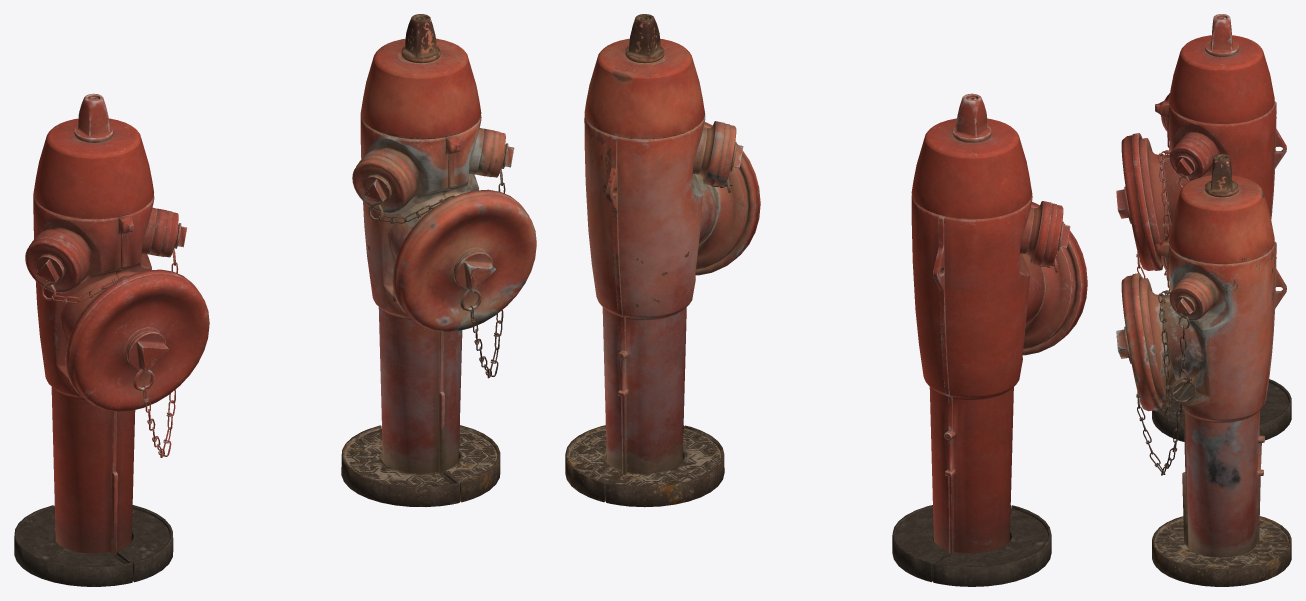
The model's file is fire_hydrant.glb.
3 views of the same model, side by side, from view 1: azimuth 30°, elevation 25°; view 2: azimuth 150°, elevation 25°; view 3: azimuth 270°, elevation 25° (orthographic). The views are drawn at different scales.
Visible parts, largest first — view 1: fire_hydrant_aged, fire_hydrant, fire_hydrant_cap_01, fire_hydrant_cap_01_aged, fire_hydrant_cap_03_aged, fire_hydrant_cap_03, fire_hydrant_chain_aged, fire_hydrant_chain, fire_hydrant_cap_02, fire_hydrant_cap_02_aged; view 2: fire_hydrant, fire_hydrant_aged, fire_hydrant_cap_01, fire_hydrant_cap_01_aged, fire_hydrant_cap_03_aged, fire_hydrant_cap_03; view 3: fire_hydrant_aged, fire_hydrant, fire_hydrant_cap_01, fire_hydrant_cap_01_aged, fire_hydrant_chain_aged, fire_hydrant_cap_02_aged, fire_hydrant_cap_02, fire_hydrant_chain.
Part boxes in pixels (box(x1,y1,x2,y2)): fire_hydrant_aged: box(341, 14, 500, 506); fire_hydrant: box(14, 93, 173, 586); fire_hydrant_cap_01: box(65, 269, 209, 411); fire_hydrant_cap_01_aged: box(392, 189, 536, 331); fire_hydrant_cap_03_aged: box(352, 155, 411, 213); fire_hydrant_cap_03: box(25, 235, 84, 293); fire_hydrant_chain_aged: box(368, 145, 505, 378); fire_hydrant_chain: box(41, 224, 178, 457); fire_hydrant_cap_02: box(159, 210, 186, 257); fire_hydrant_cap_02_aged: box(486, 130, 514, 177); fire_hydrant: box(892, 93, 1075, 586); fire_hydrant_aged: box(565, 14, 748, 507); fire_hydrant_cap_01: box(1022, 202, 1087, 355); fire_hydrant_cap_01_aged: box(695, 122, 760, 275); fire_hydrant_cap_03_aged: box(713, 123, 743, 186); fire_hydrant_cap_03: box(1041, 203, 1070, 266); fire_hydrant_aged: box(1139, 154, 1291, 586); fire_hydrant: box(1139, 14, 1291, 441); fire_hydrant_cap_01: box(1116, 133, 1162, 270); fire_hydrant_cap_01_aged: box(1116, 273, 1162, 411); fire_hydrant_chain_aged: box(1136, 289, 1196, 475); fire_hydrant_cap_02_aged: box(1169, 281, 1209, 320); fire_hydrant_cap_02: box(1169, 141, 1209, 180); fire_hydrant_chain: box(1136, 149, 1194, 280).
Size of the model in its own units: 0.8746 by 0.7995 by 0.3176.
Materials: 2 (2 with a texture image).
